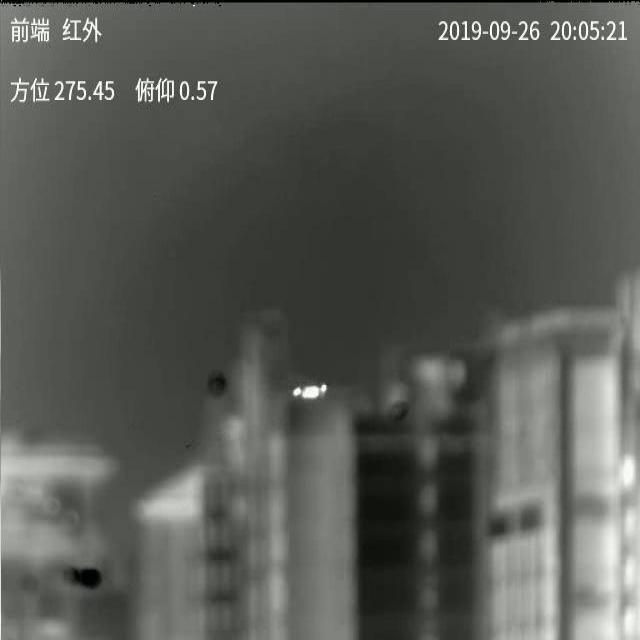drone: (292, 384, 328, 400)
